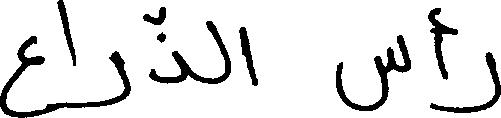X: (336, 30, 410, 115), (0, 31, 43, 117), (429, 3, 457, 117), (150, 2, 187, 88), (85, 46, 131, 111), (459, 47, 500, 117), (58, 0, 75, 113), (206, 16, 230, 88), (238, 22, 257, 90)
